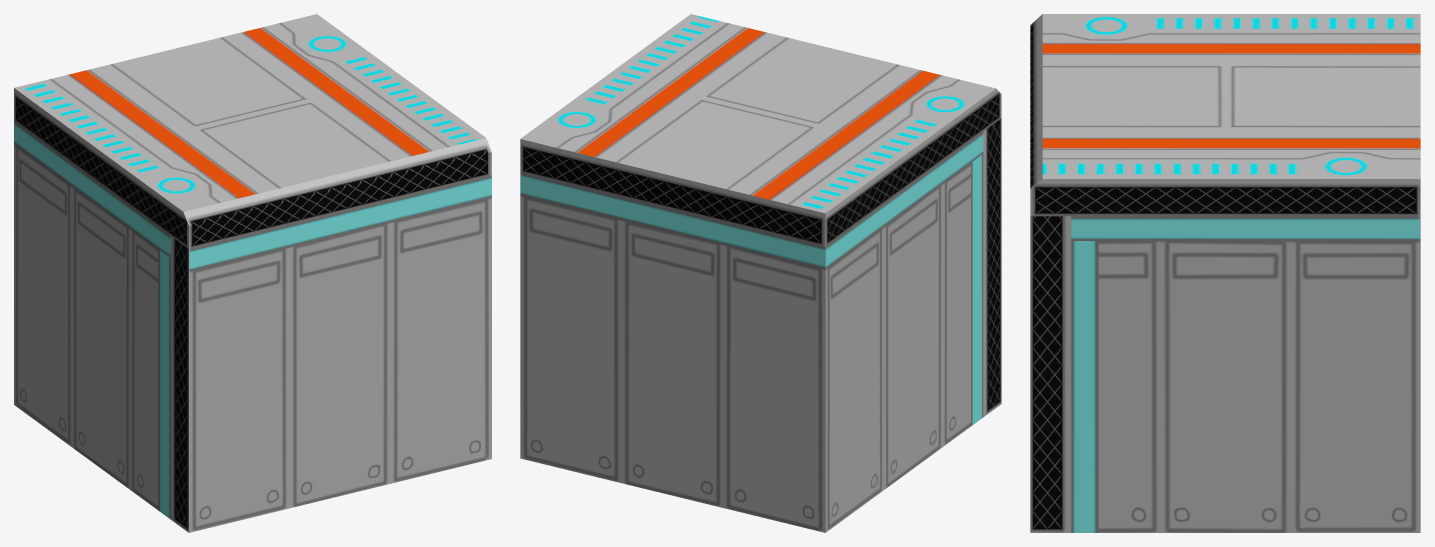
File: base_block_corner.fbx
3 renders of one model, left to right at view 1: azimuth 30°, elevation 25°; view 2: azimuth 150°, elevation 25°; view 3: azimuth 270°, elevation 25°, orthographic. The views are drawn at different scales.
Visible parts, largest first — view 1: base_block_corner; view 2: base_block_corner; view 3: base_block_corner.
Part boxes in pixels (x1,y1,x2,y2): base_block_corner: (14,14,491,532); base_block_corner: (520,14,1001,532); base_block_corner: (1030,14,1420,532).
Size of the model in its own units: 10 by 10 by 10.
